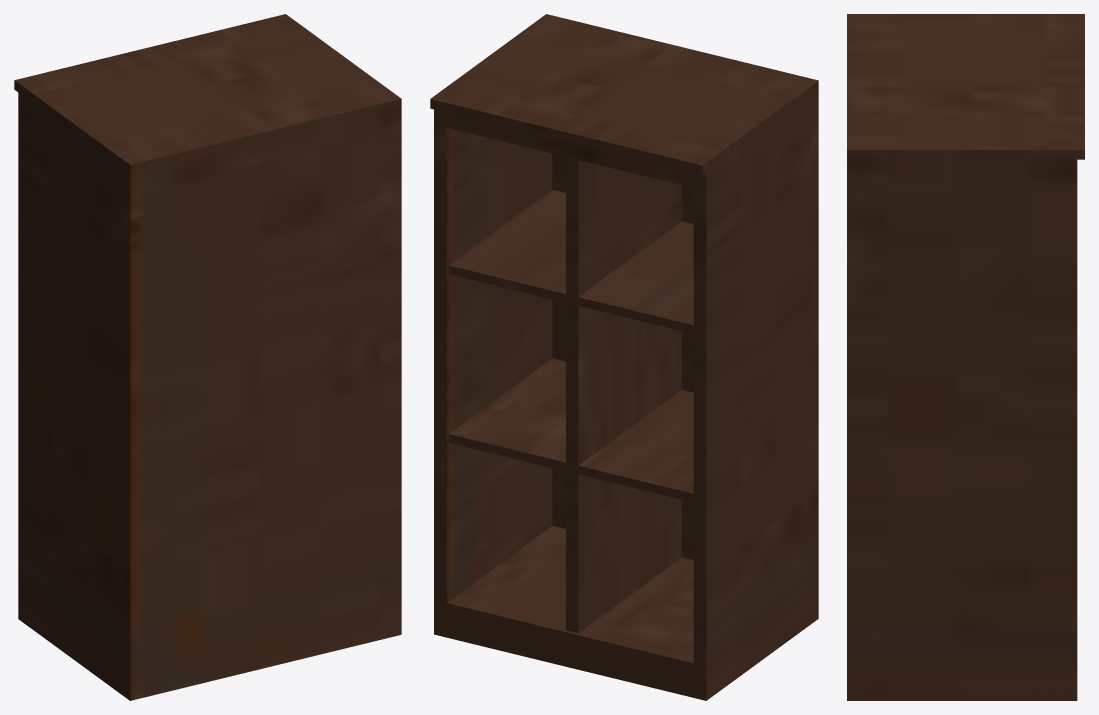
File: Closet40.glb
3 renders of one model, left to right at view 1: azimuth 30°, elevation 25°; view 2: azimuth 150°, elevation 25°; view 3: azimuth 270°, elevation 25°, orthographic. The views are drawn at different scales.
Parts seen in each view (by area): view 1: Closet40_model; view 2: Closet40_model; view 3: Closet40_model.
Part boxes in pixels (x1,y1,x2,y2): Closet40_model: (14,14,401,700); Closet40_model: (430,14,818,700); Closet40_model: (847,14,1084,700).
Size of the model in its own units: 1.37 by 2.58 by 1.01.
Materials: 1 (1 with a texture image).
